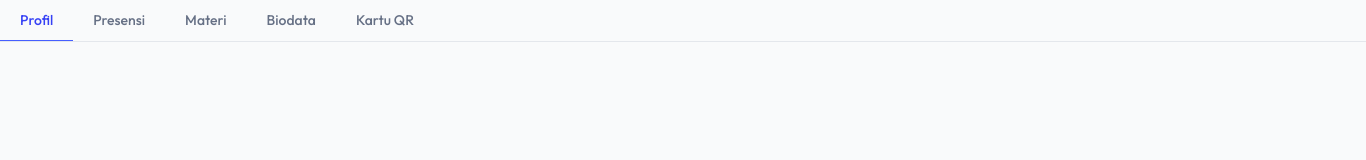
StudentTabHeader › shows loading spinner when a tab is clicked
Click the link "Presensi": [119, 20] box [93,11,145,29]
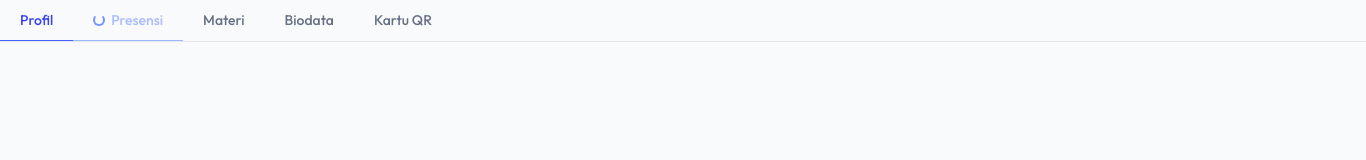
Expected: the element with class "animate-spin" is shown, [93,14,105,26]
